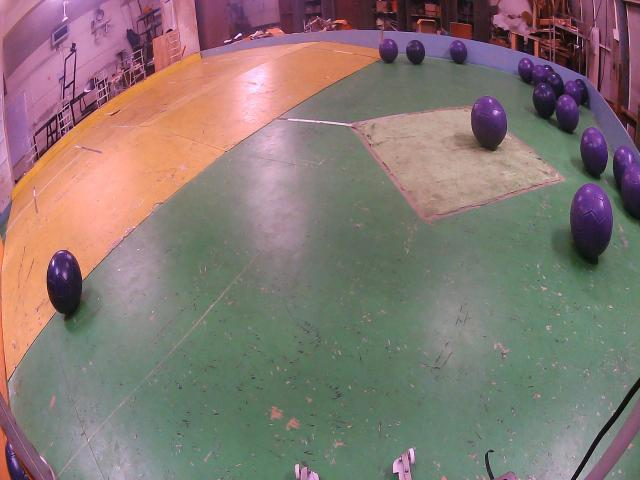jambhalya: (570, 183, 612, 260), (471, 97, 508, 150), (580, 127, 608, 178), (621, 163, 640, 219), (612, 145, 635, 188), (555, 95, 579, 133), (379, 38, 398, 63), (531, 65, 551, 87), (564, 80, 581, 105), (450, 40, 468, 63), (518, 58, 534, 83)
kaalyya: (46, 250, 82, 315), (532, 83, 556, 118), (406, 40, 425, 65), (546, 72, 564, 98), (575, 78, 589, 104)
